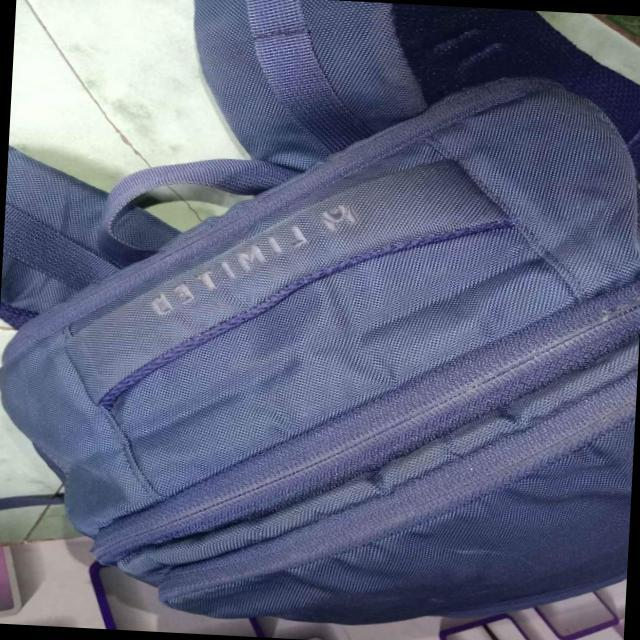bag: (0, 80, 640, 627)
